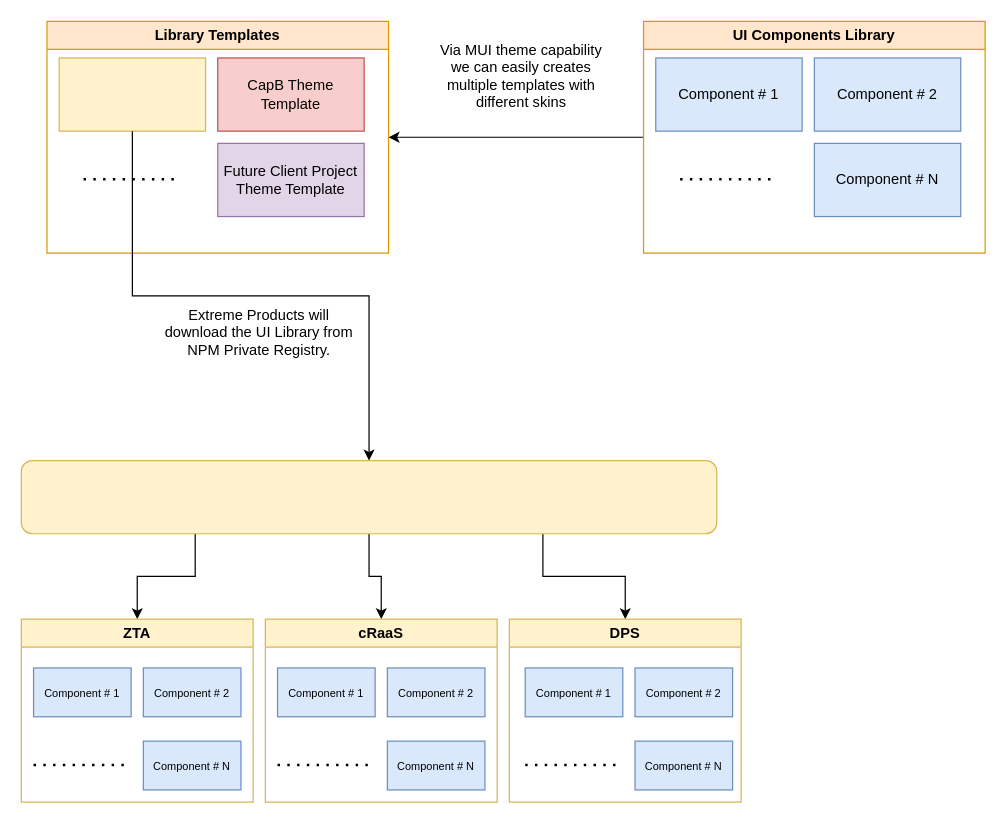
Image size: 1007x824. Some labels were removed from this diagram. Here are the shapes that lost their labels. From the top down, the centre of each, then its label:
At point (132, 94): "EN Theme Template".
At point (368, 496): "Extreme Networks Products".
